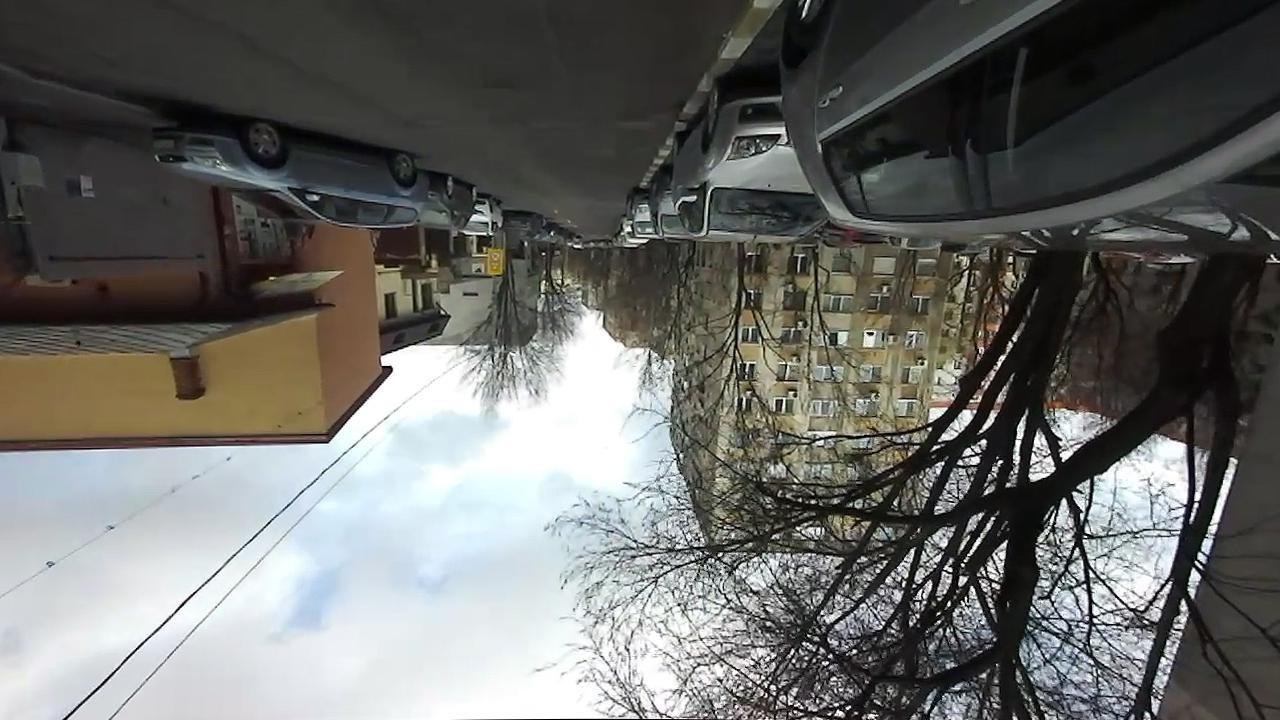pothole: (474, 72, 519, 98)
